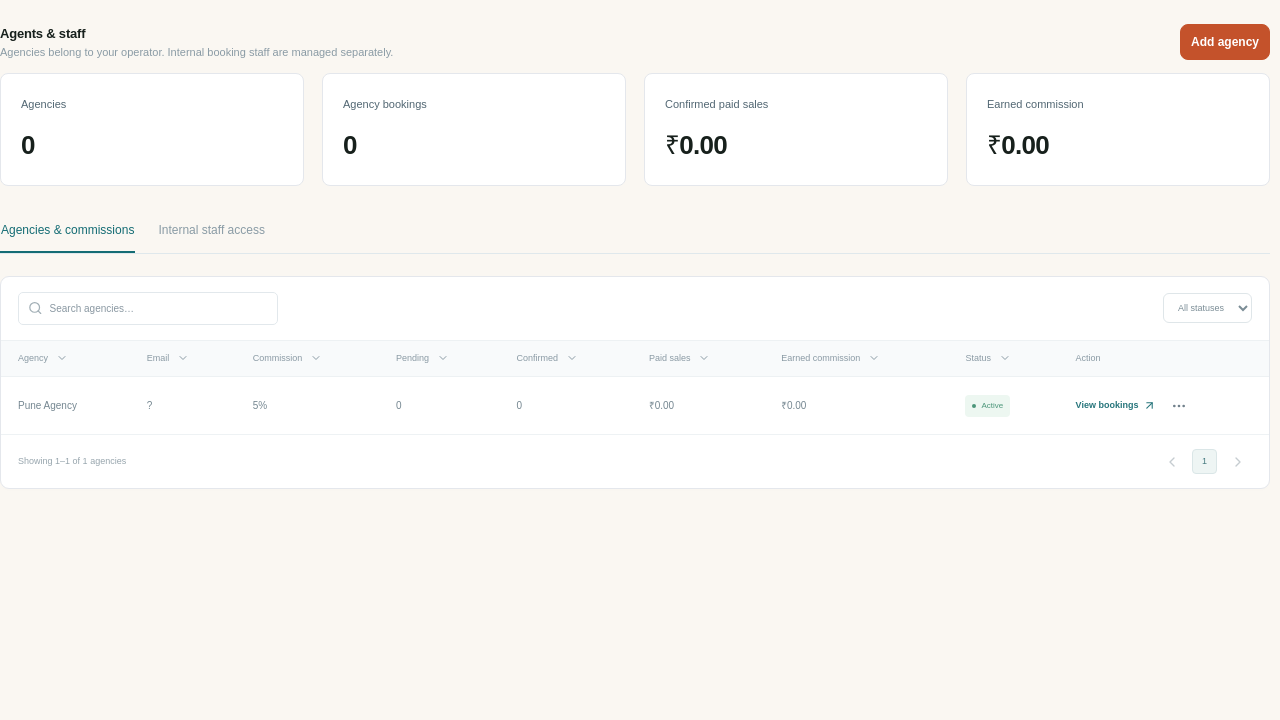
Test case: keeps an agency history request active during a workspace refresh
The image size is (1280, 720).
Click the button "View bookings" at (1116,406), box [1076,399,1156,412]
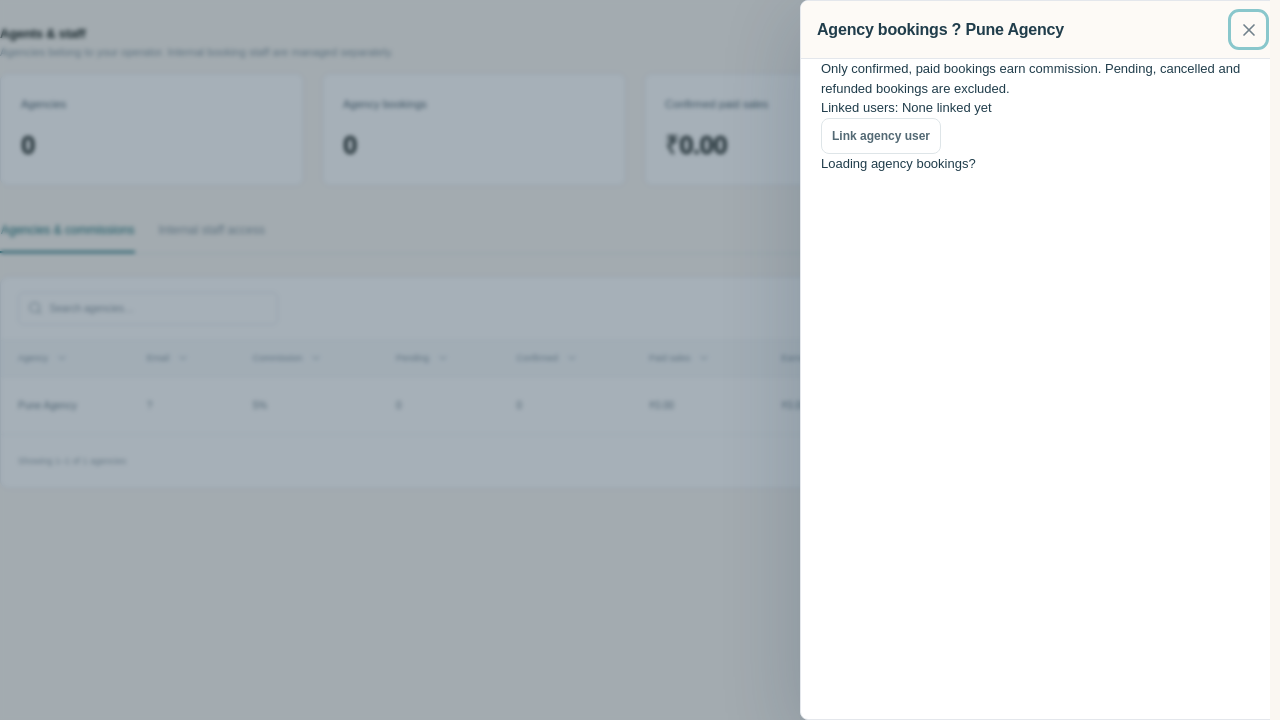
Expected: the message shows "Loading agency bookings", [821,156,976,170]
